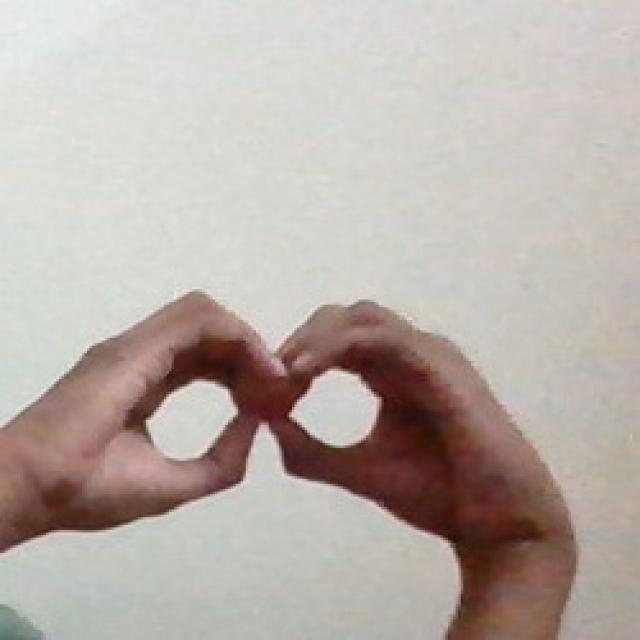Alphabet-B: (26, 284, 564, 547)
